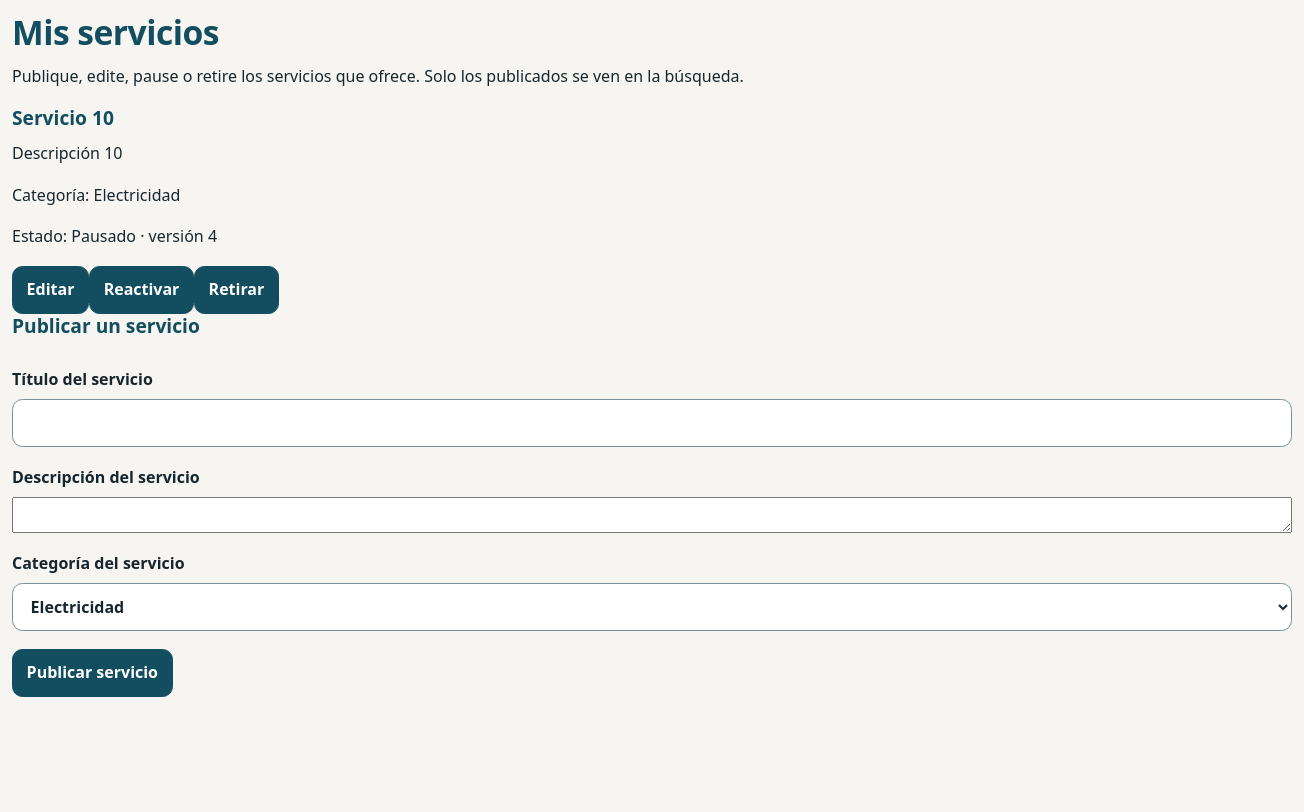
CA-SER-06 una reactivación rechazada conserva el estado PAUSADO, la versión y el mensaje de causa
Click the button with aria-label "Reactivar Servicio 10": (142, 290) [89,266,194,314]
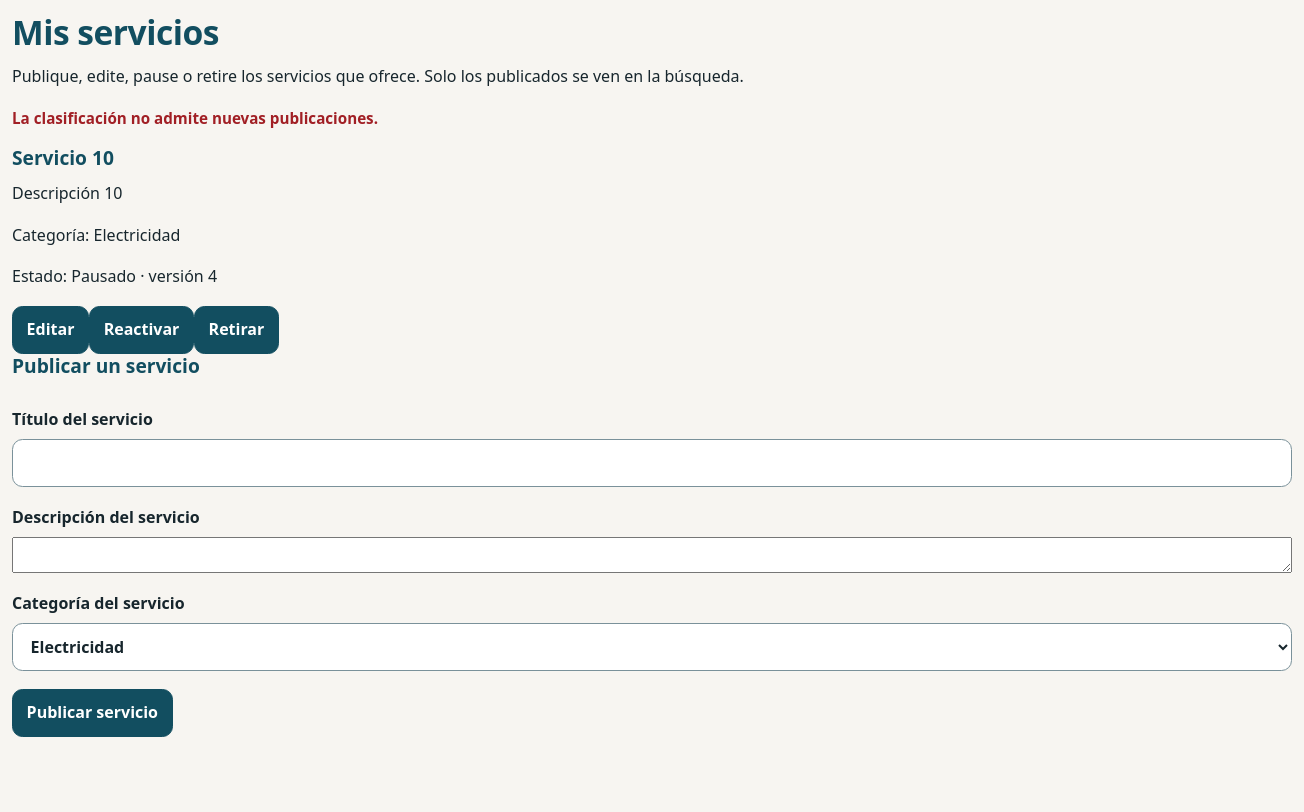
Check: the text "Estado: Pausado · versión 4" is shown, box [12,265,217,287]
Check: the message reads "La clasificación no admite nuevas publicaciones.", box [12,108,378,128]
